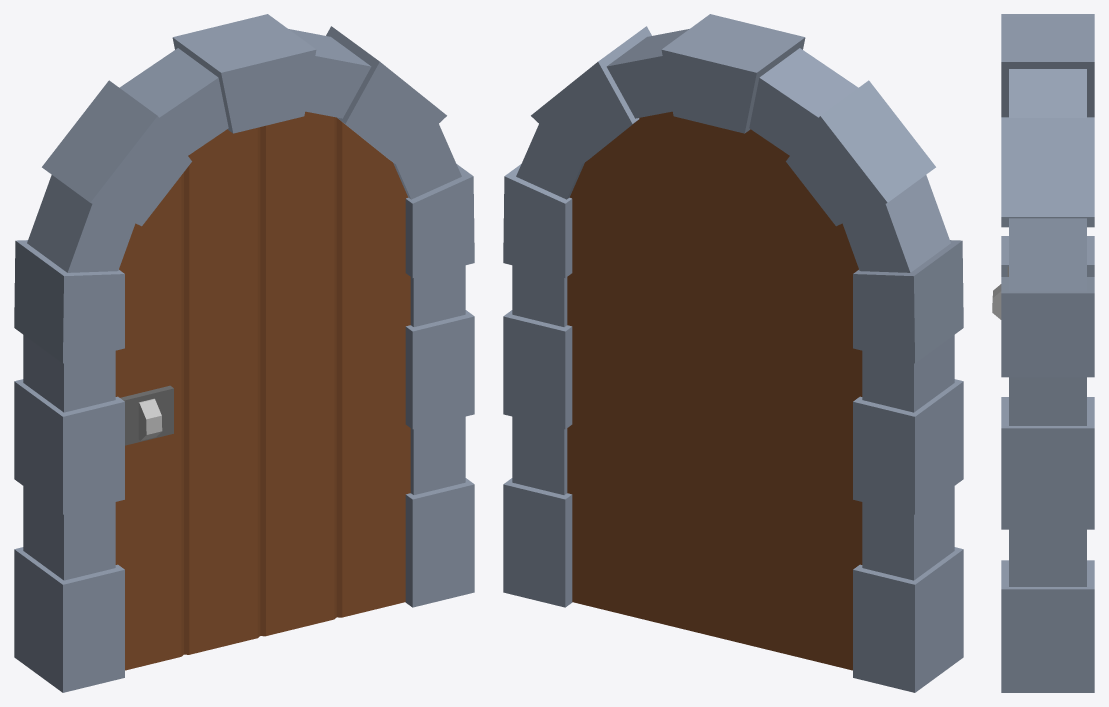
The model's file is v02_door.fbx.
3 renders of one model, left to right at view 1: azimuth 30°, elevation 25°; view 2: azimuth 150°, elevation 25°; view 3: azimuth 270°, elevation 25°, orthographic. The views are drawn at different scales.
Parts seen in each view (by area): view 1: 立方体; view 2: 立方体; view 3: 立方体.
Part boxes in pixels (x1,y1,x2,y2): 立方体: [14, 14, 474, 692]; 立方体: [503, 14, 963, 692]; 立方体: [992, 14, 1094, 692].
Bounding box in the file's own units: 180 × 242 × 40.3.
